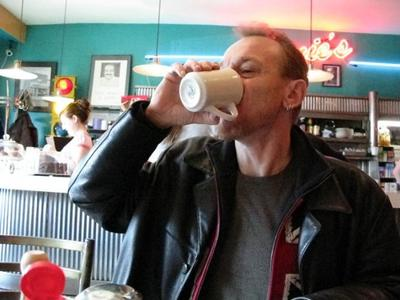person: (66, 21, 399, 299)
